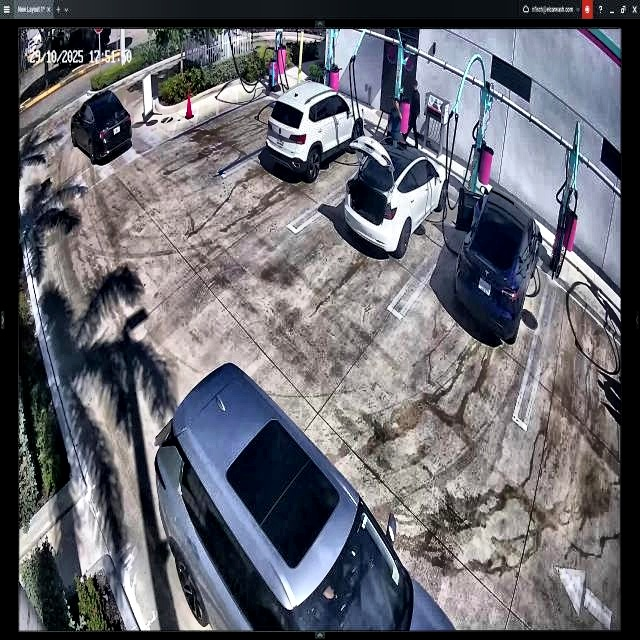Car: (151, 388, 458, 632), (451, 189, 543, 341), (346, 140, 448, 255), (271, 81, 362, 179), (71, 91, 134, 161)
